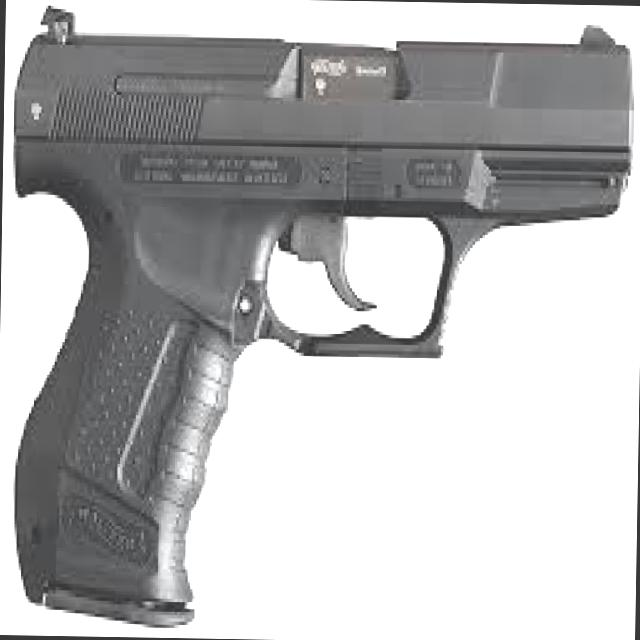handgun: (9, 4, 639, 636)
